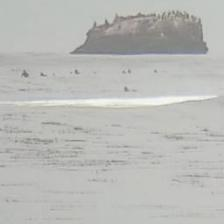surfer: (20, 69, 30, 79), (123, 86, 137, 92), (39, 72, 48, 77), (74, 69, 80, 76), (153, 68, 158, 74), (121, 70, 127, 75), (127, 69, 132, 74)
